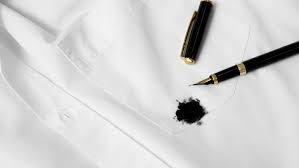ink: (174, 98, 206, 122)
